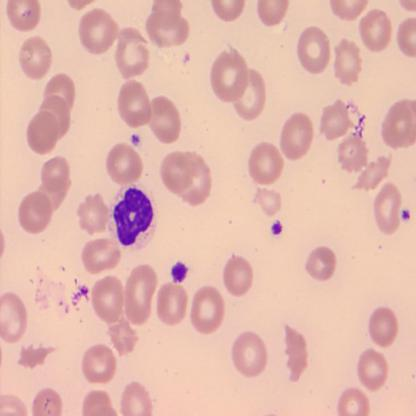Band Neutrophil: (105, 180, 158, 254)
